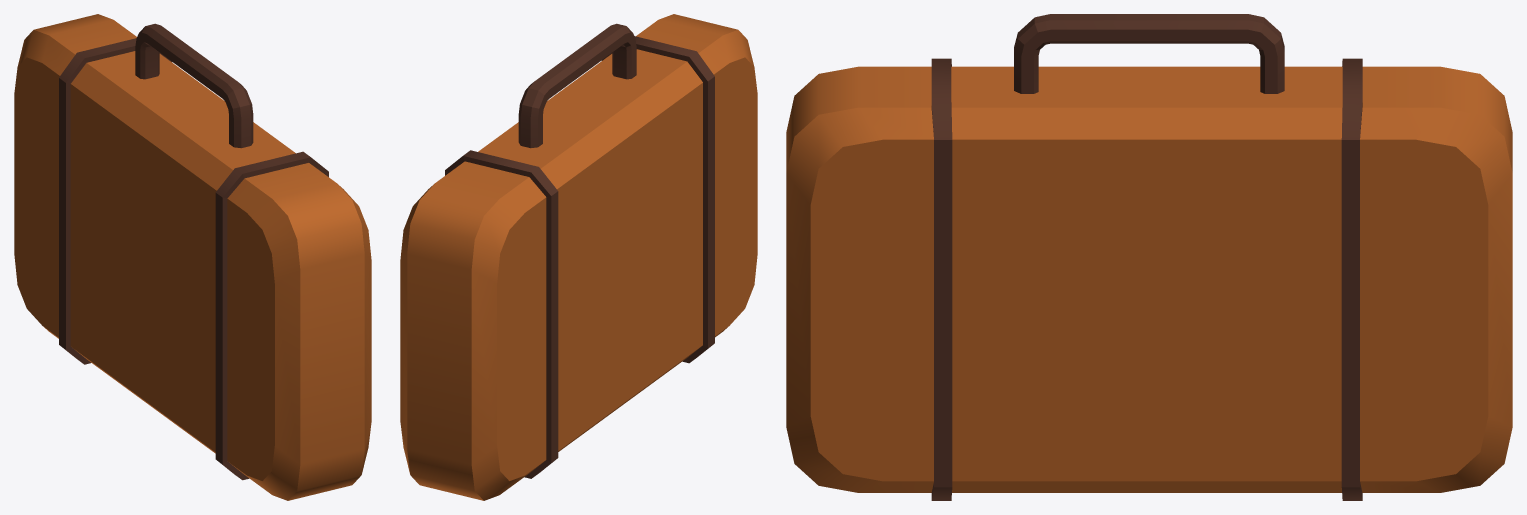
File: Valise_à_Main.fbx
3 renders of one model, left to right at view 1: azimuth 30°, elevation 25°; view 2: azimuth 150°, elevation 25°; view 3: azimuth 270°, elevation 25°, orthographic. The views are drawn at different scales.
Parts seen in each view (by area): view 1: Valise_à_Main; view 2: Valise_à_Main; view 3: Valise_à_Main.
Part boxes in pixels (box(x1,y1,x2,y2)): Valise_à_Main: box(14, 14, 371, 500); Valise_à_Main: box(400, 14, 757, 500); Valise_à_Main: box(786, 14, 1512, 500).
Bounding box in the file's own units: 11.46 × 36.63 × 52.08.
Materials: 1 (1 with a texture image).
